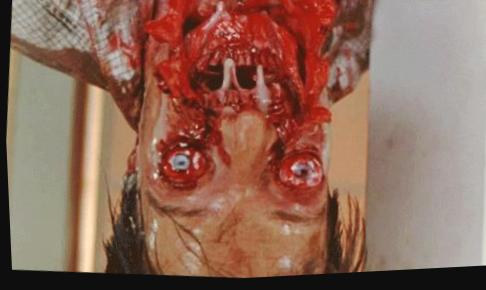Fire: (102, 0, 338, 210), (216, 208, 259, 280)
